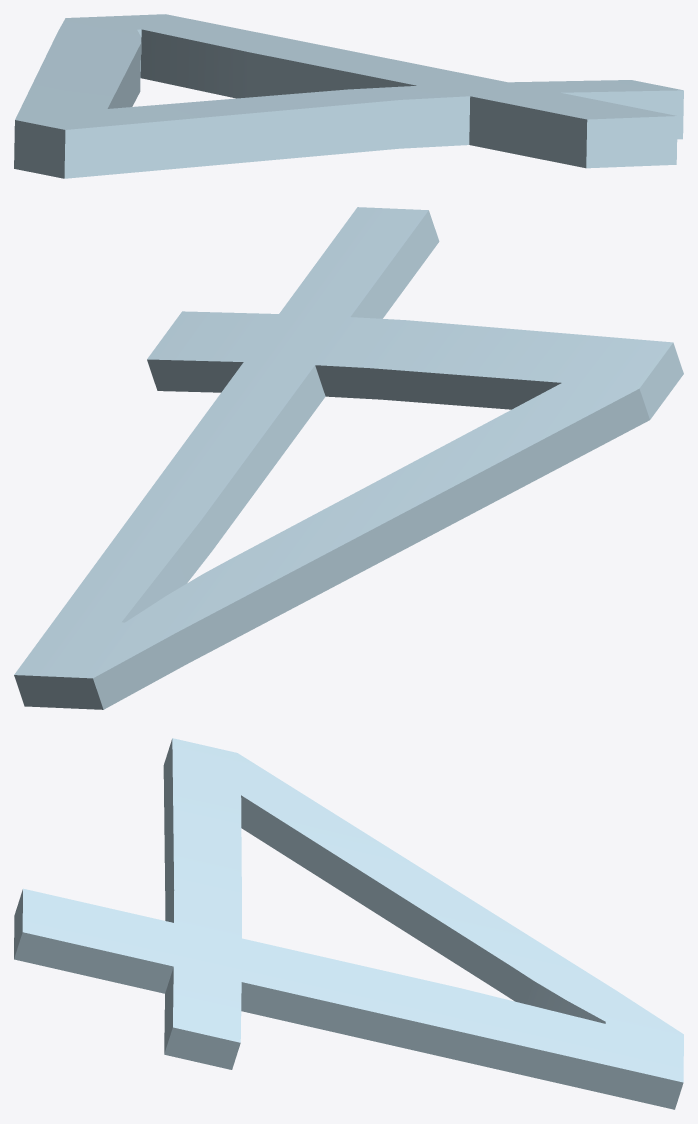
Rendered from Number_4.gltf.
The picture shows the model from 3 angles, top to bottom: view 1: azimuth 30°, elevation 25°; view 2: azimuth 150°, elevation 25°; view 3: azimuth 270°, elevation 25°; orthographic projection. The views are drawn at different scales.
Visible parts, largest first — view 1: Sub_9_Cell_2_3_Number_4; view 2: Sub_9_Cell_2_3_Number_4; view 3: Sub_9_Cell_2_3_Number_4.
Boxes of the visible parts, <box> form: Sub_9_Cell_2_3_Number_4: <box>14,14,683,178</box>; Sub_9_Cell_2_3_Number_4: <box>14,207,683,709</box>; Sub_9_Cell_2_3_Number_4: <box>14,738,683,1109</box>.
Bounding box in the file's own units: 0.0188 × 0.00877 × 0.0247.
